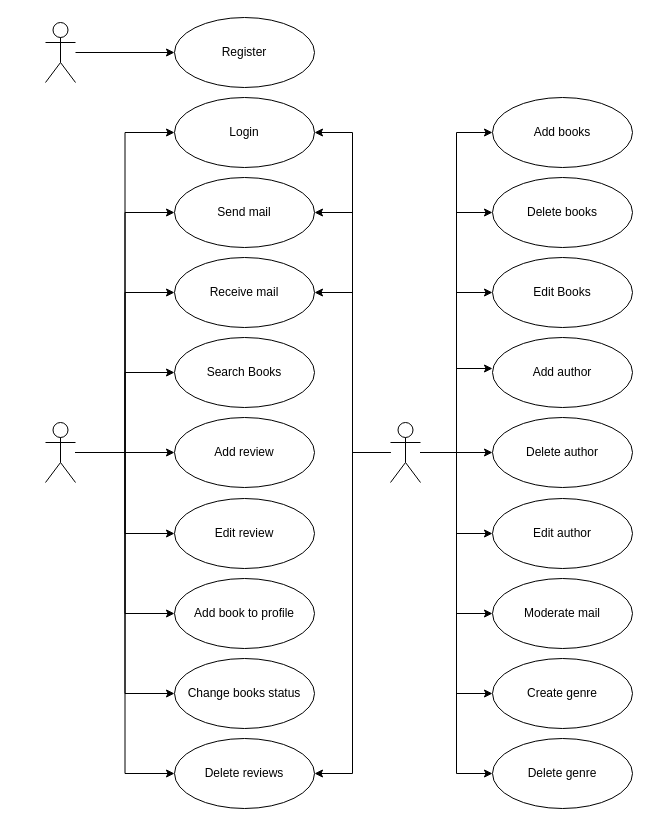
Some shapes in this 650 by 826 pixel diagram are drawn without their labels. The shapes that lost their labels are listed below. From the top down, each one's centre as x and y in pixels, then its label:
At (x=60, y=52): "User".
At (x=60, y=452): "Registered User".
At (x=405, y=452): "Manager".
